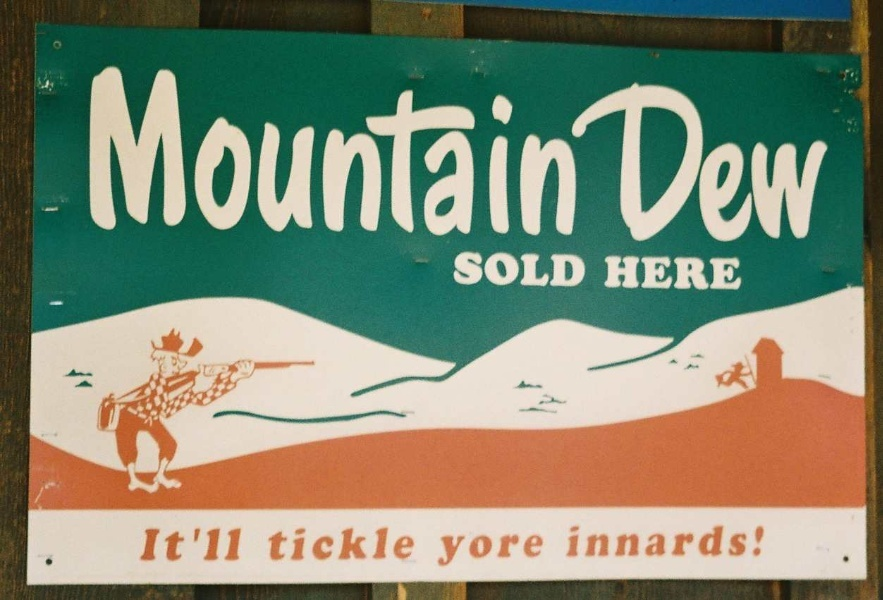text: (97, 55, 112, 235), (113, 55, 128, 235), (129, 55, 144, 235), (145, 55, 160, 235), (161, 55, 176, 235), (177, 55, 192, 235), (193, 55, 208, 235), (209, 55, 224, 235), (225, 55, 240, 235), (241, 55, 256, 235), (257, 55, 272, 235), (273, 55, 288, 235), (289, 55, 304, 235), (305, 55, 320, 235), (321, 55, 336, 235), (337, 55, 352, 235), (353, 55, 368, 235), (369, 55, 384, 235), (385, 55, 400, 235), (401, 55, 416, 235), (417, 55, 432, 235), (433, 55, 448, 235), (449, 55, 464, 235), (465, 55, 480, 235), (481, 55, 496, 235), (497, 55, 512, 235), (513, 55, 528, 235), (529, 55, 544, 235), (545, 55, 560, 235), (561, 55, 576, 235), (561, 68, 576, 244), (577, 68, 592, 244), (593, 68, 608, 244), (609, 68, 624, 244), (625, 68, 640, 244), (641, 68, 656, 244), (657, 68, 672, 244), (673, 68, 688, 244), (689, 68, 704, 244), (705, 68, 720, 244), (721, 68, 736, 244), (737, 68, 752, 244), (753, 68, 768, 244), (769, 68, 784, 244), (785, 68, 800, 244), (801, 68, 816, 244), (817, 68, 832, 244), (547, 68, 560, 244), (833, 68, 845, 244), (85, 55, 96, 235), (577, 522, 592, 561), (593, 522, 608, 561), (609, 522, 624, 561), (625, 522, 640, 561), (641, 522, 656, 561), (657, 522, 672, 561), (673, 522, 688, 561), (689, 522, 704, 561), (705, 522, 720, 561), (721, 522, 736, 561), (737, 522, 752, 561), (609, 254, 624, 292), (625, 254, 640, 292), (641, 254, 656, 292), (657, 254, 672, 292), (673, 254, 688, 292), (689, 254, 704, 292), (705, 254, 720, 292), (721, 254, 736, 292), (145, 525, 160, 563), (161, 525, 176, 563), (177, 525, 192, 563), (193, 525, 208, 563), (209, 525, 224, 563), (225, 525, 240, 563), (465, 251, 480, 288), (481, 251, 496, 288), (497, 251, 512, 288), (513, 251, 528, 288), (529, 251, 544, 288), (545, 251, 560, 288), (561, 251, 576, 288), (577, 55, 580, 235), (273, 526, 288, 562), (289, 526, 304, 562), (305, 526, 320, 562), (321, 526, 336, 562), (337, 526, 352, 562), (353, 526, 368, 562), (369, 526, 384, 562), (385, 526, 400, 562), (401, 526, 416, 562), (449, 533, 464, 567), (465, 533, 480, 567), (481, 533, 496, 567), (497, 533, 512, 567), (513, 533, 528, 567), (529, 533, 544, 567), (753, 522, 765, 561), (566, 522, 576, 561), (454, 251, 464, 288), (438, 533, 448, 567), (577, 251, 586, 288), (602, 254, 608, 292), (737, 254, 743, 292), (241, 525, 245, 563), (270, 526, 272, 562), (545, 533, 547, 567), (417, 526, 418, 562)
